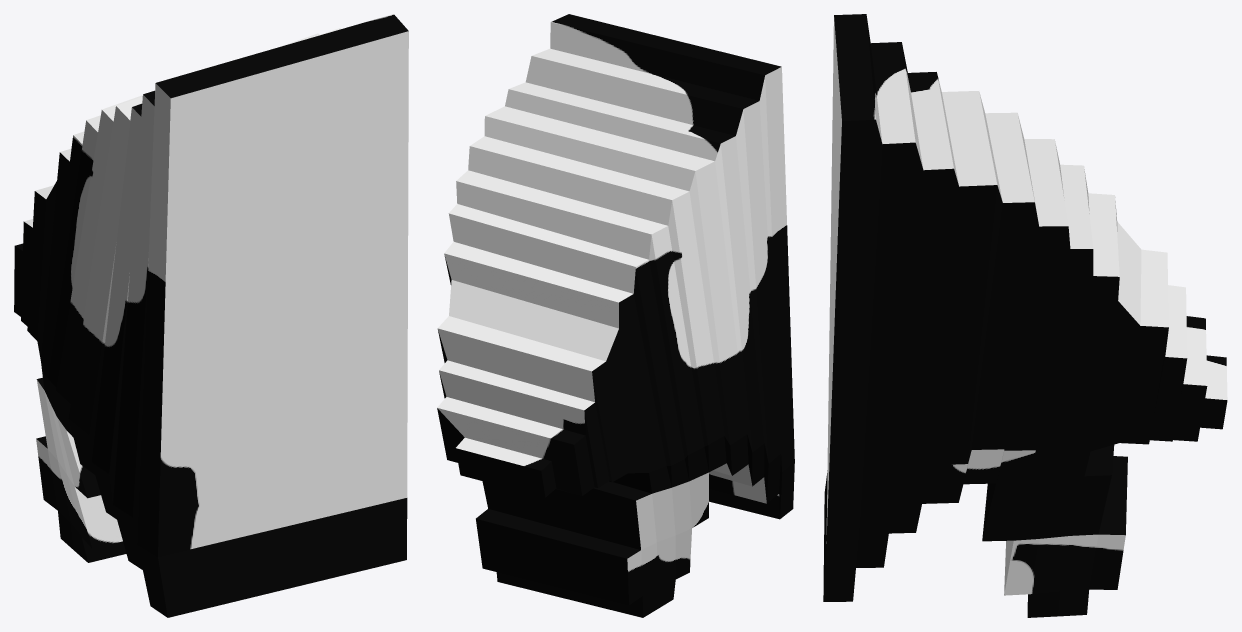
The model's file is model_Cursor_Basic.fbx.
3 renders of one model, left to right at view 1: azimuth 30°, elevation 25°; view 2: azimuth 150°, elevation 25°; view 3: azimuth 270°, elevation 25°, orthographic. The views are drawn at different scales.
Visible parts, largest first — view 1: SM_Mouse; view 2: SM_Mouse; view 3: SM_Mouse.
Boxes of the visible parts, box(x1,y1,x2,y2) form: SM_Mouse: box(14, 14, 408, 617); SM_Mouse: box(437, 14, 794, 617); SM_Mouse: box(823, 14, 1227, 617).
Size of the model in its own units: 48.75 by 92.4 by 65.17.
